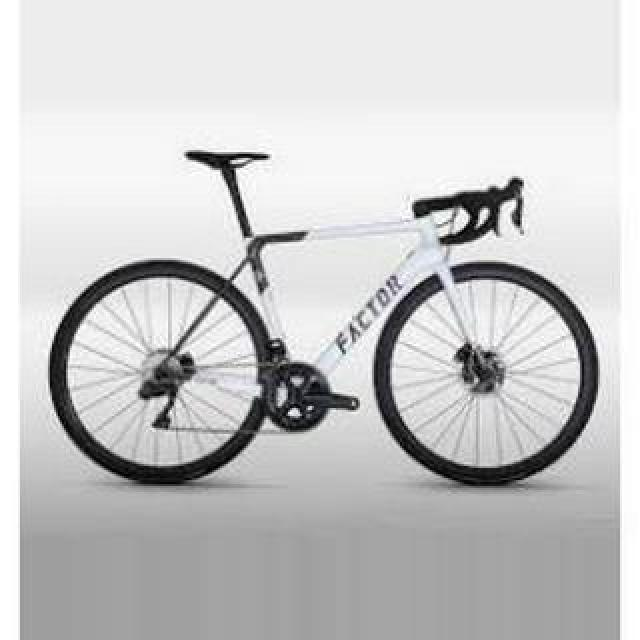Person: (49, 150, 603, 490)
